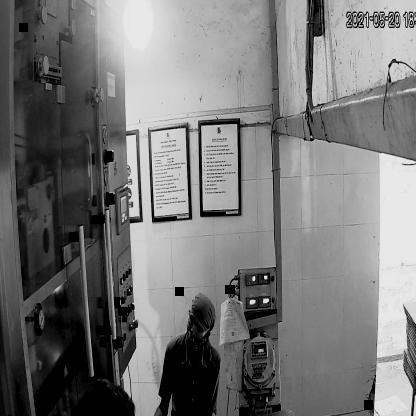goggles: (185, 310, 210, 341)
